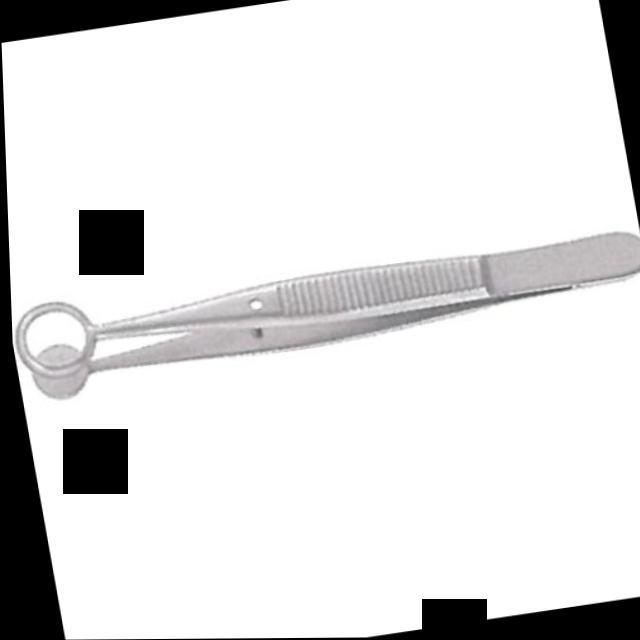Eye Intestinal Forceps: (6, 198, 640, 406)
